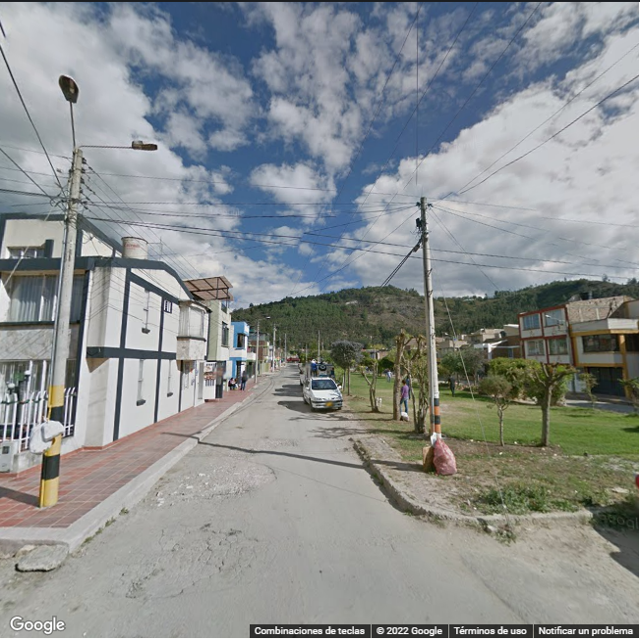D20: (122, 515, 264, 604)
